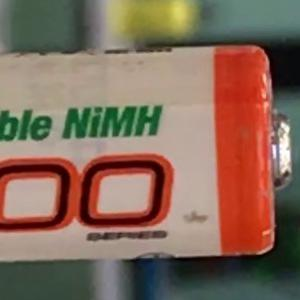NIMH: (52, 96, 172, 149)
